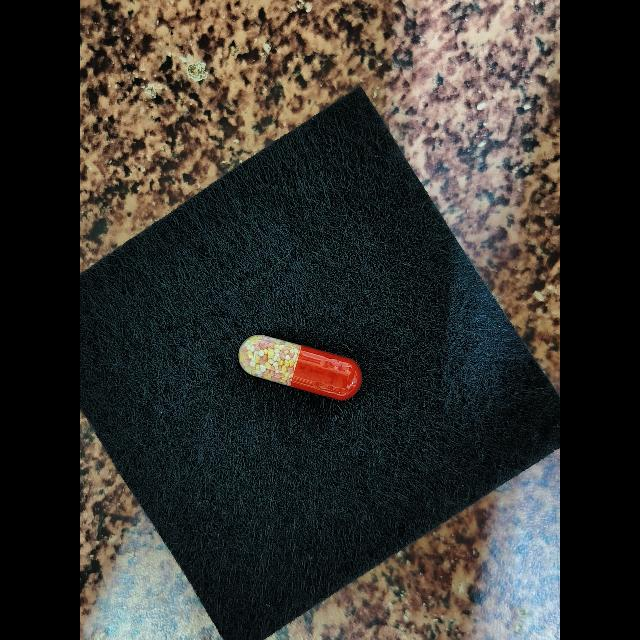Intact Capsule: (238, 335, 362, 400)
